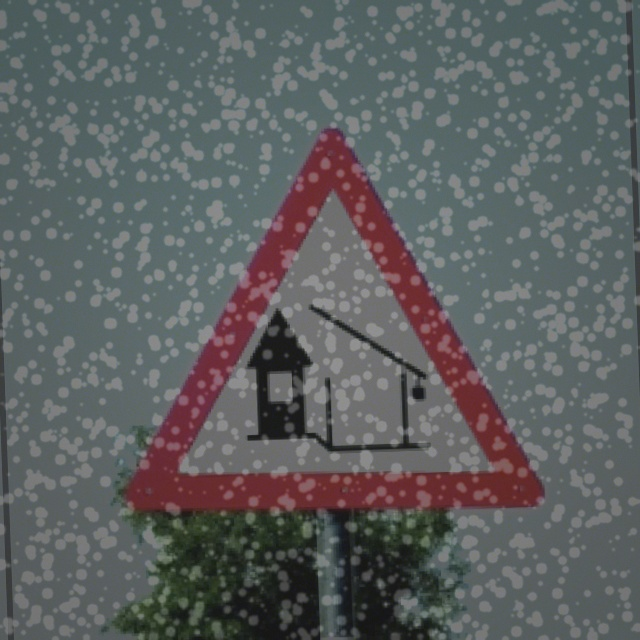Barrier_Ahead: (132, 122, 531, 526)
